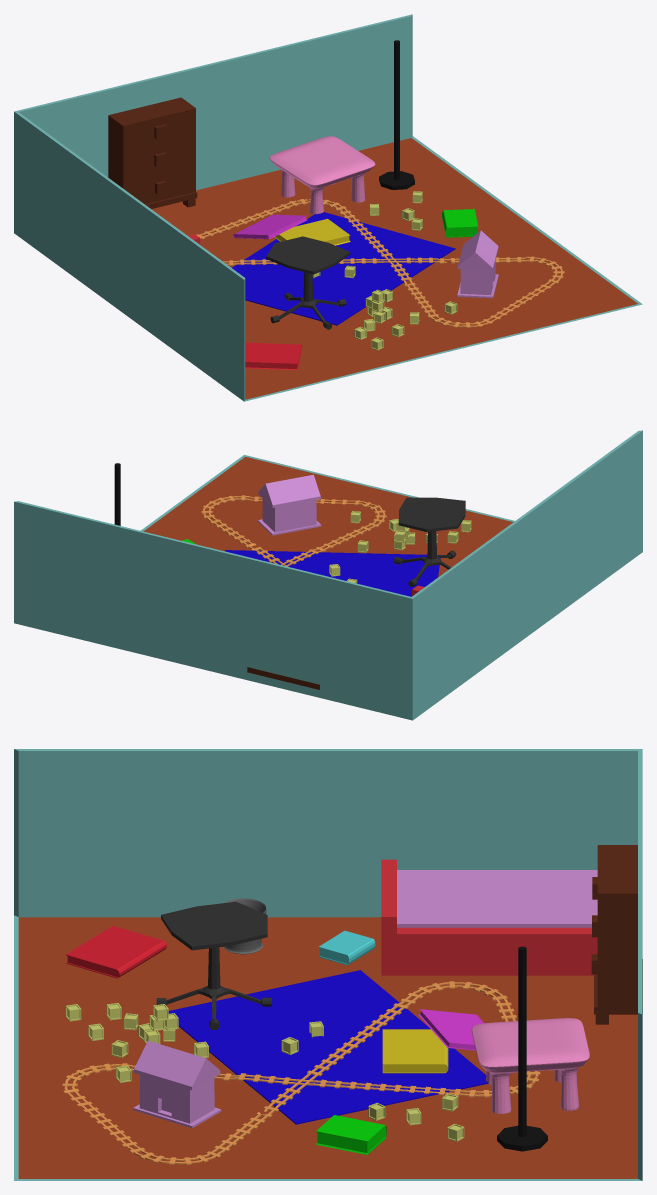
The model's file is room18.fbx.
3 views of the same model, one above another, from view 1: azimuth 30°, elevation 25°; view 2: azimuth 150°, elevation 25°; view 3: azimuth 270°, elevation 25° (orthographic). The views are drawn at different scales.
Parts seen in each view (by area): view 1: Plane, Plane.003, Plane.002, Cube.005, Cube.006, tracks.007, Cylinder, Cube, Cube.000, Cylinder.001, Cube.001, Cube.004 (+2 smaller); view 2: Plane, Plane.003, Plane.002, Cube, Cylinder, tracks.007, Cube.005, Cylinder.001; view 3: Plane, Plane.003, Plane.002, Cube.008, Cube.007, Cube.005, tracks.007, Cube.006, Cube, Cylinder, Cube.000, Cube.001 (+6 smaller).
Part boxes in pixels (box(x1,y1,x2,y2)): Plane: box(14, 14, 642, 401); Plane.003: box(151, 138, 637, 399); Plane.002: box(233, 213, 451, 323); Cube.005: box(108, 97, 197, 208); Cube.006: box(269, 136, 375, 214); tracks.007: box(196, 199, 564, 327); Cylinder: box(266, 236, 350, 329); Cube: box(457, 230, 498, 298); Cube.000: box(245, 342, 301, 370); Cylinder.001: box(379, 40, 414, 189); Cube.001: box(274, 218, 350, 245); Cube.004: box(233, 214, 307, 239); Plane: box(14, 430, 642, 720); Plane.003: box(143, 456, 513, 577); Plane.002: box(227, 551, 436, 596); Cube: box(258, 474, 321, 535); Cylinder: box(394, 497, 465, 586); tracks.007: box(201, 495, 386, 566); Cube.005: box(247, 667, 319, 689); Cylinder.001: box(114, 463, 120, 525); Plane: box(14, 749, 642, 1180); Plane.003: box(18, 917, 637, 1178); Plane.002: box(168, 972, 486, 1121); Cube.008: box(397, 870, 597, 927); Cube.007: box(381, 859, 597, 975); Cube.005: box(591, 845, 642, 1024); tracks.007: box(62, 981, 540, 1164); Cube.006: box(471, 1018, 589, 1113); Cube: box(133, 1040, 221, 1128); Cylinder: box(156, 901, 271, 1029); Cube.000: box(65, 926, 166, 978); Cube.001: box(382, 1029, 448, 1073).
Bounding box in the file's own units: 3000 × 1040 × 3001.
